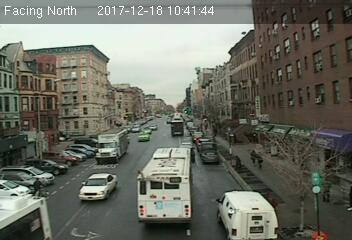bus: (136, 147, 194, 222)
car: (79, 171, 120, 205), (202, 150, 217, 161)
truck: (216, 191, 279, 239), (95, 127, 130, 161)
